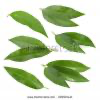Peach leaf: (7, 9, 47, 37), (3, 66, 44, 90), (42, 7, 80, 27), (4, 47, 51, 63), (47, 59, 92, 74), (53, 65, 90, 82), (54, 34, 85, 54), (44, 66, 70, 88), (65, 32, 96, 48), (52, 5, 86, 19), (9, 34, 41, 48)
